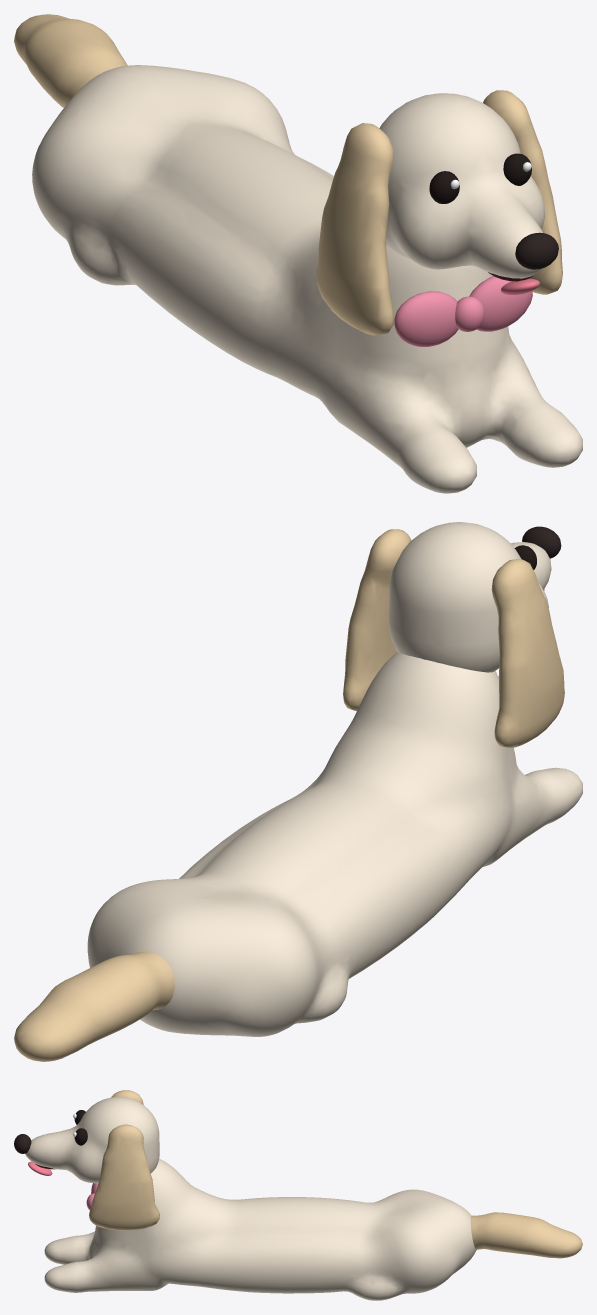
Rendered from leah.glb.
The picture shows the model from 3 angles, top to bottom: view 1: azimuth 30°, elevation 25°; view 2: azimuth 150°, elevation 25°; view 3: azimuth 270°, elevation 25°; orthographic projection. The views are drawn at different scales.
Parts seen in each view (by area): view 1: leah_body, leah_head, leah_ear_r, leah_tail, leah_ear_l, leah_bow_r, leah_bow_l, leah_nose, leah_bow_knot, leah_eye_r, leah_eye_l; view 2: leah_body, leah_head, leah_tail, leah_ear_r, leah_ear_l, leah_nose; view 3: leah_body, leah_head, leah_ear_l, leah_tail.
Part boxes in pixels (box(x1,y1,x2,y2)): leah_body: box(32, 65, 582, 493); leah_head: box(379, 93, 544, 278); leah_ear_r: box(316, 123, 393, 335); leah_tail: box(14, 14, 127, 107); leah_ear_l: box(483, 90, 562, 294); leah_bow_r: box(394, 291, 458, 346); leah_bow_l: box(469, 276, 532, 331); leah_nose: box(515, 232, 558, 269); leah_bow_knot: box(455, 296, 484, 331); leah_eye_r: box(429, 171, 459, 203); leah_eye_l: box(503, 153, 531, 185); leah_body: box(87, 652, 582, 1036); leah_head: box(388, 522, 551, 672); leah_tail: box(14, 951, 174, 1061); leah_ear_r: box(491, 558, 564, 747); leah_ear_l: box(343, 529, 411, 711); leah_nose: box(522, 526, 561, 558); leah_body: box(44, 1158, 476, 1300); leah_head: box(25, 1097, 159, 1183); leah_ear_l: box(89, 1124, 159, 1230); leah_tail: box(470, 1212, 582, 1258).
Size of the model in its own units: 0.168 by 0.2305 by 0.6704.
